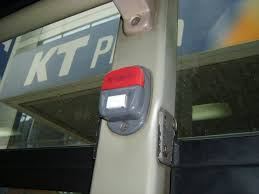bell: (97, 65, 153, 136)
